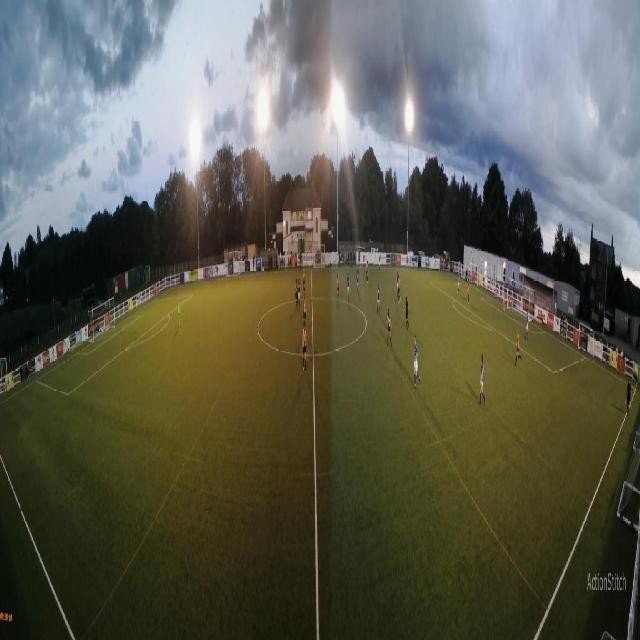ball: (457, 290, 458, 295)
player: (413, 333, 421, 390), (479, 354, 486, 406), (302, 318, 308, 374), (514, 327, 522, 367), (386, 306, 392, 348), (302, 294, 308, 329), (404, 294, 409, 330), (397, 275, 403, 305), (377, 282, 381, 317), (177, 296, 181, 327), (295, 279, 299, 310), (346, 272, 350, 303), (336, 272, 340, 302), (525, 311, 529, 341), (302, 267, 306, 296), (356, 267, 360, 296), (395, 271, 399, 298), (365, 260, 369, 284), (502, 291, 506, 313), (467, 283, 471, 305), (378, 253, 382, 273), (458, 273, 461, 295)
